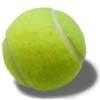tennis ball: (1, 3, 91, 94)
